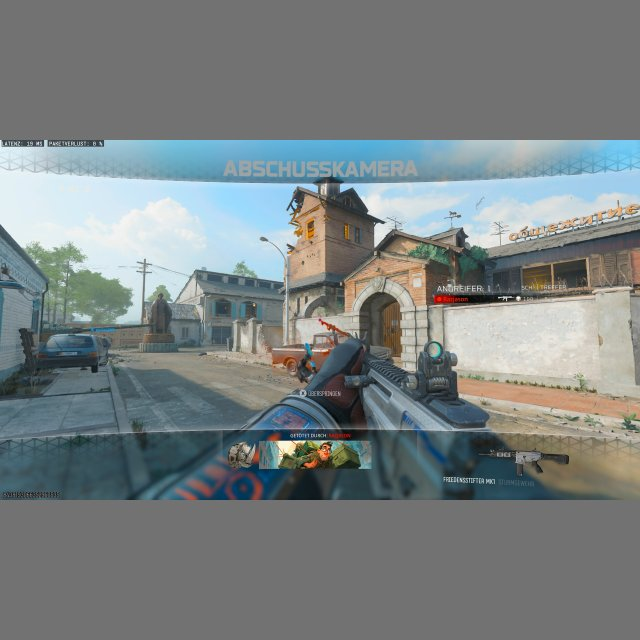player: (296, 354, 318, 384)
